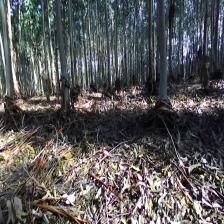trunk: (0, 0, 25, 109), (54, 3, 71, 114), (157, 6, 170, 109)
